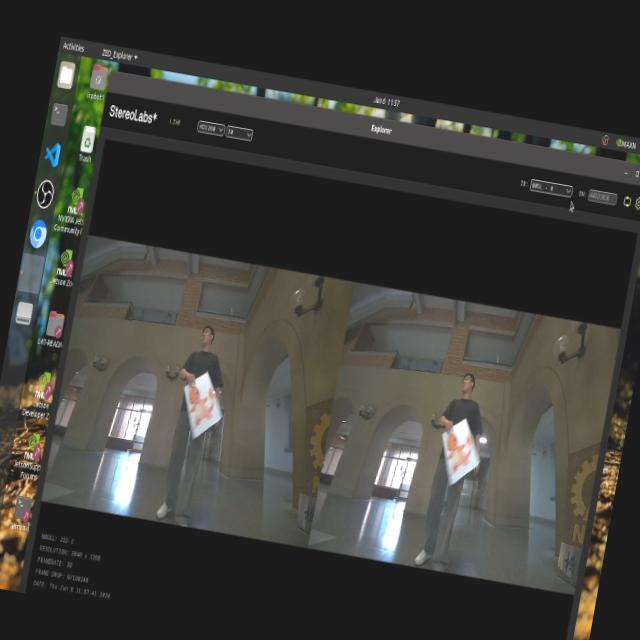red: (441, 421, 490, 482), (176, 378, 222, 429)
